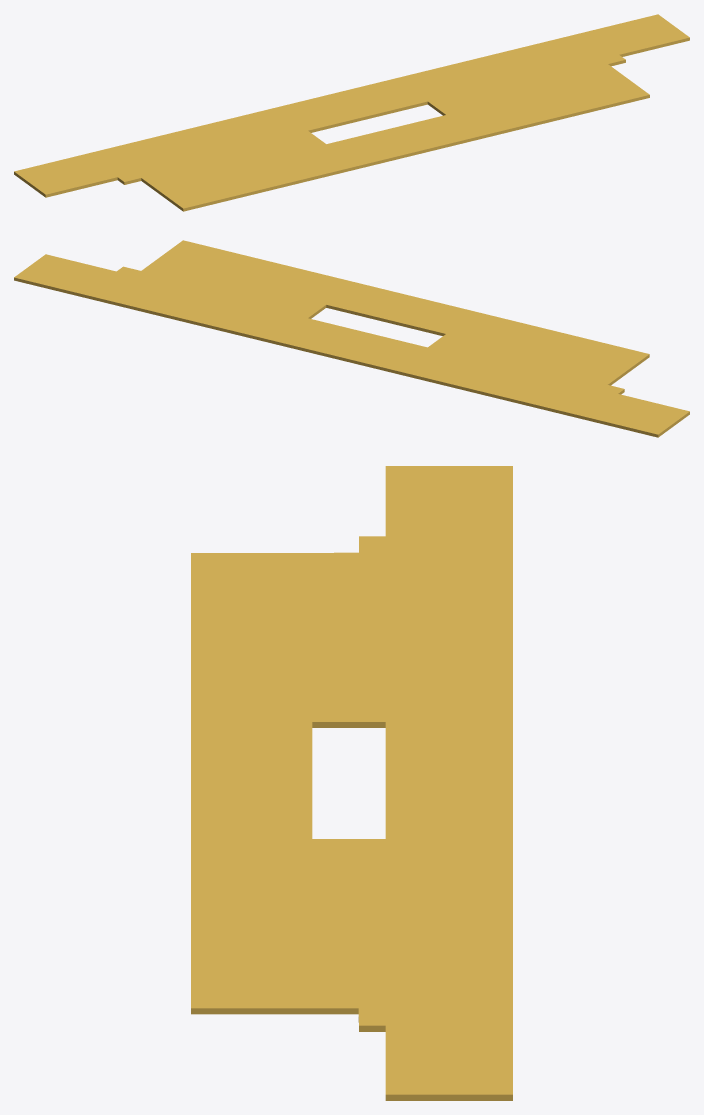
File: floor1.glb
3 renders of one model, top to bottom at view 1: azimuth 30°, elevation 25°; view 2: azimuth 150°, elevation 25°; view 3: azimuth 270°, elevation 25°, orthographic. The views are drawn at different scales.
Parts seen in each view (by area): view 1: 平面; view 2: 平面; view 3: 平面.
Part boxes in pixels (<box>): 平面: <box>14,14,689,211</box>; 平面: <box>14,240,689,437</box>; 平面: <box>191,466,512,1100</box>.
Size of the model in its own units: 24.18 by 0.1092 by 5.23.
